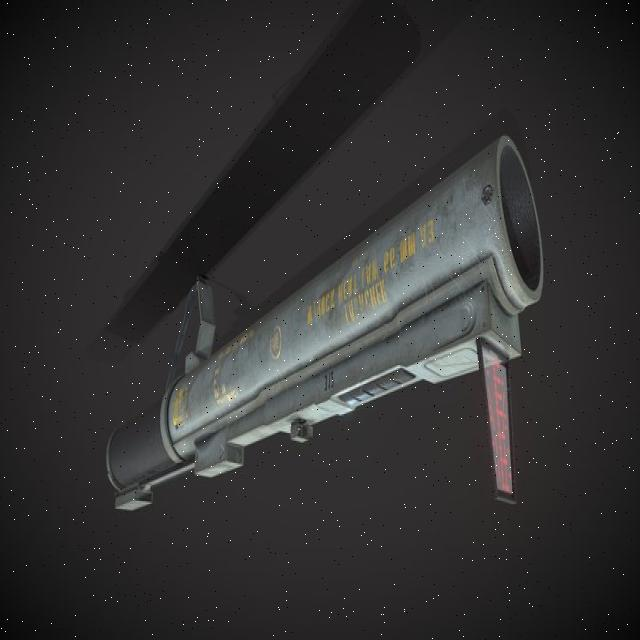bazooka: (100, 124, 548, 522)
